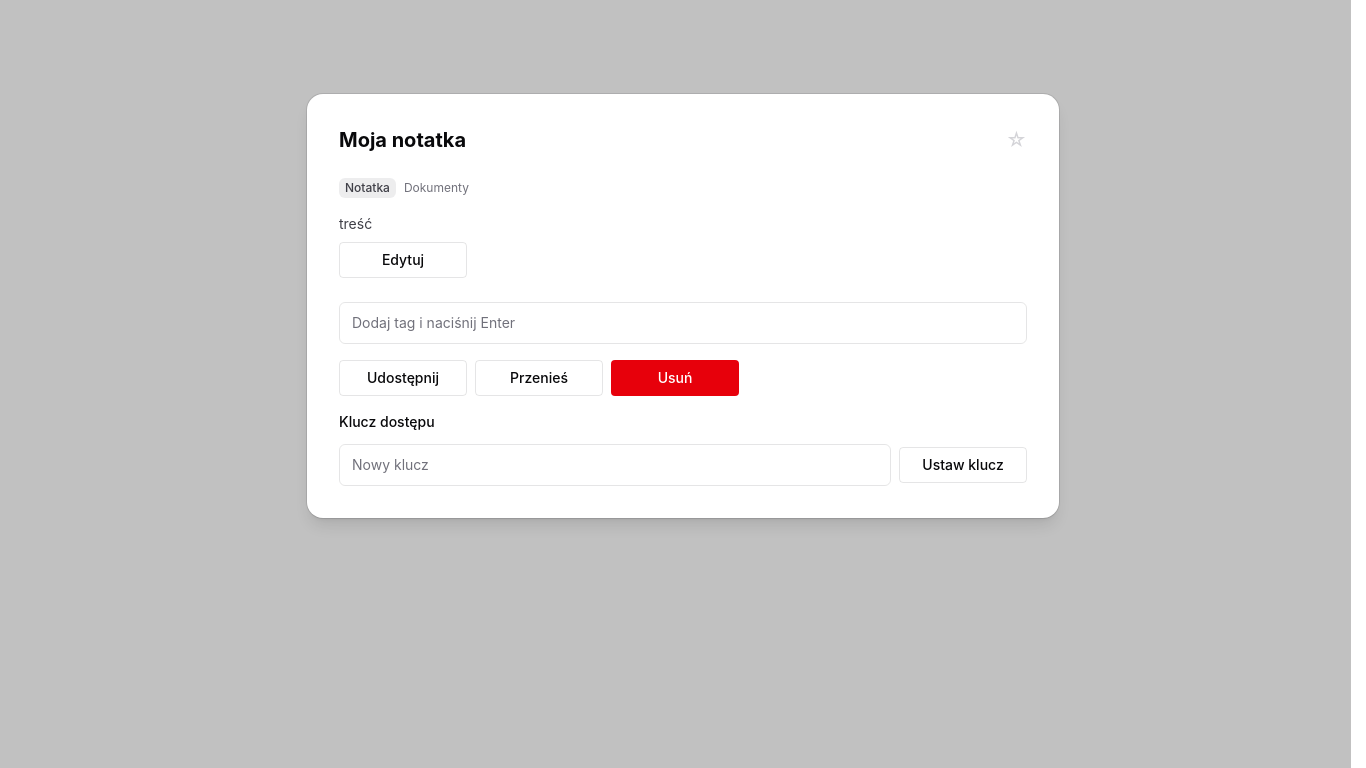
it: ItemDetailsModal › moves the item to another category
Expected: the heading "Moja notatka" is shown, [339,126,466,154]
Click the button "Przenieś".
click(539, 378)  # box [475,360,603,396]
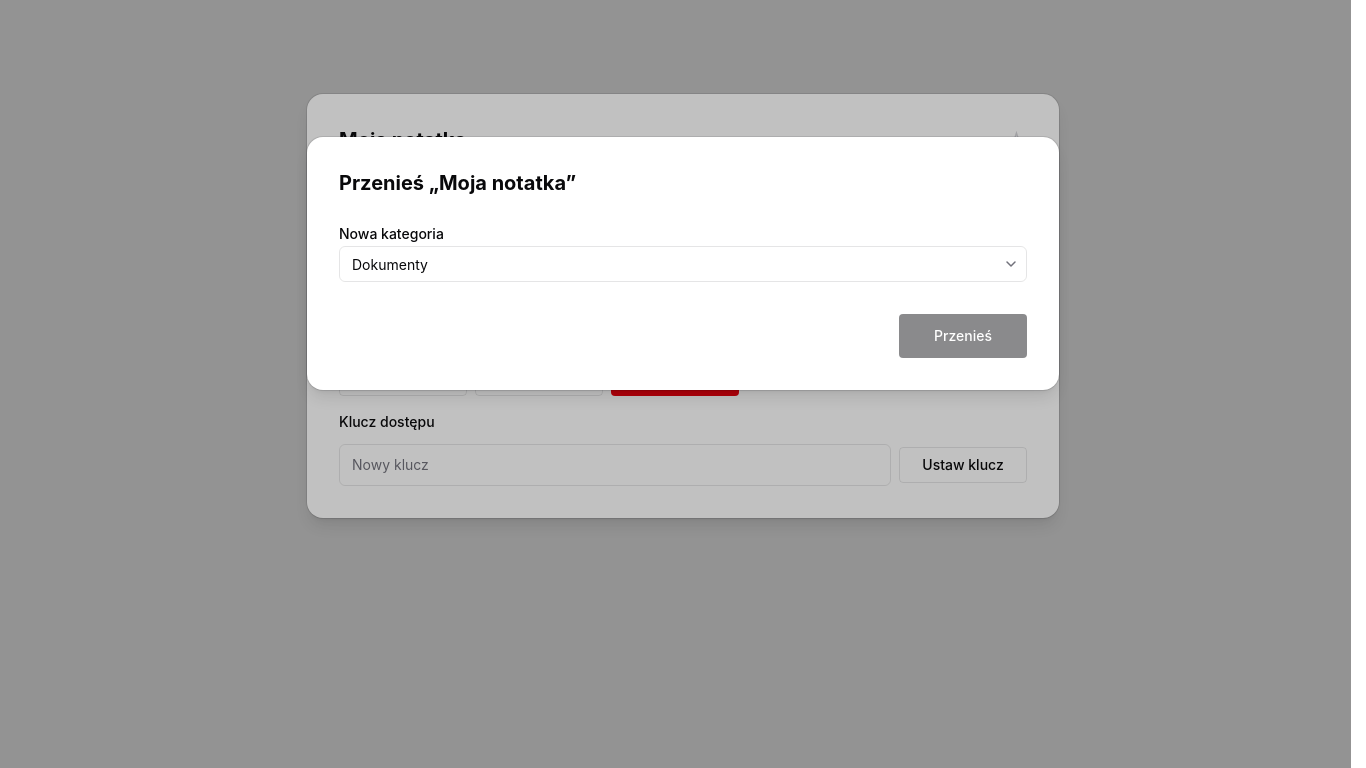
Select "Paragony" in the dropdown labelled "Nowa kategoria" at (683, 264), box [339,246,1027,282]
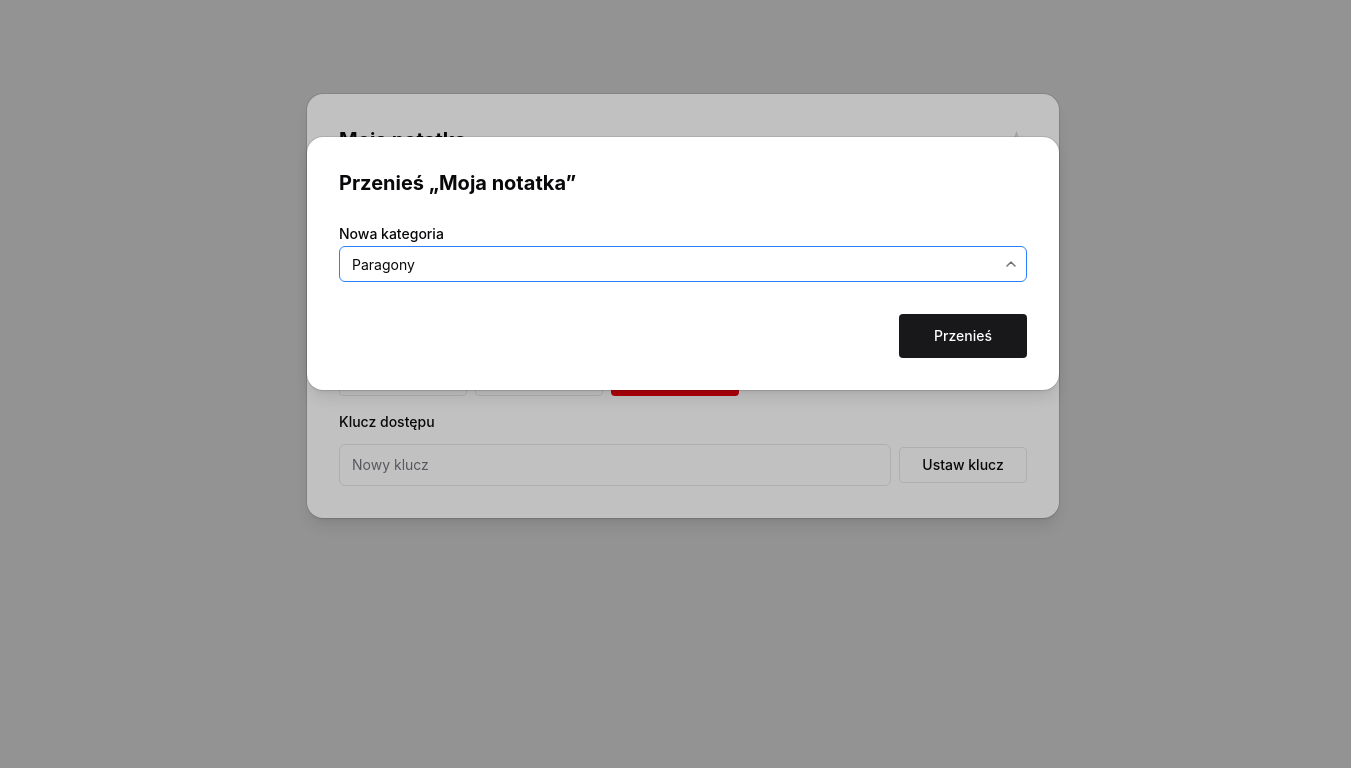
Click the button "Przenieś".
click(963, 336)  # box [899,314,1027,358]
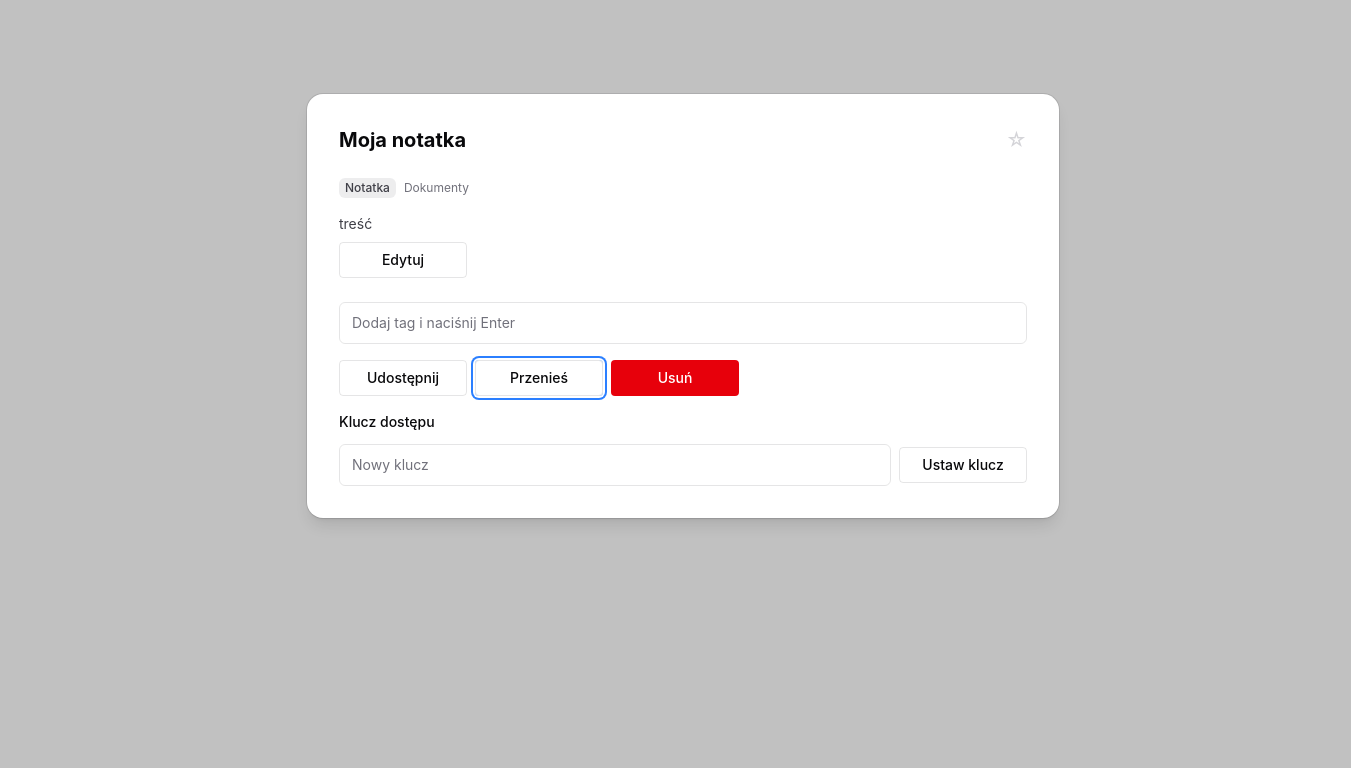
Expected: the label labelled "Nowa kategoria" is gone
